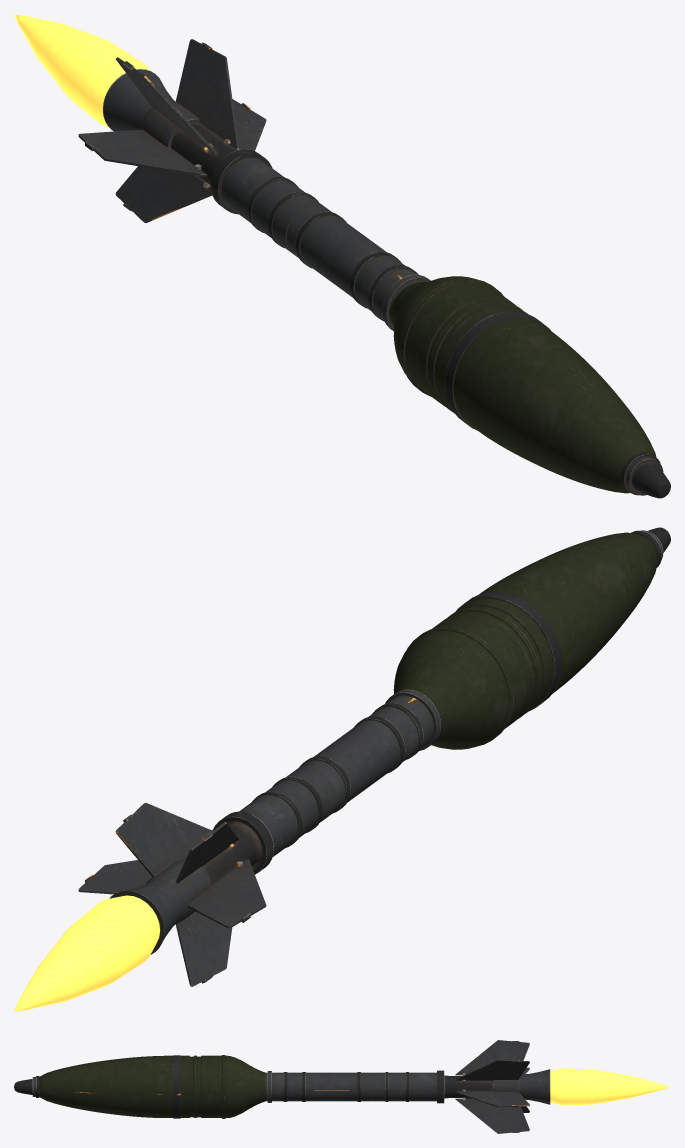
The model's file is rocket.glb.
3 views of the same model, one above another, from view 1: azimuth 30°, elevation 25°; view 2: azimuth 150°, elevation 25°; view 3: azimuth 270°, elevation 25° (orthographic). The views are drawn at different scales.
Visible parts, largest first — view 1: mesh_rocket, mesh_flame; view 2: mesh_rocket, mesh_flame; view 3: mesh_rocket, mesh_flame.
Boxes of the visible parts, bbox=[...] form: mesh_rocket: bbox=[78, 39, 670, 498]; mesh_flame: bbox=[14, 14, 150, 126]; mesh_rocket: bbox=[78, 527, 670, 986]; mesh_flame: bbox=[14, 895, 160, 1011]; mesh_rocket: bbox=[14, 1040, 550, 1133]; mesh_flame: bbox=[550, 1068, 669, 1105].
Size of the model in its own units: 0.1279 by 0.1115 by 0.8925.
Materials: 5 (5 with a texture image).
